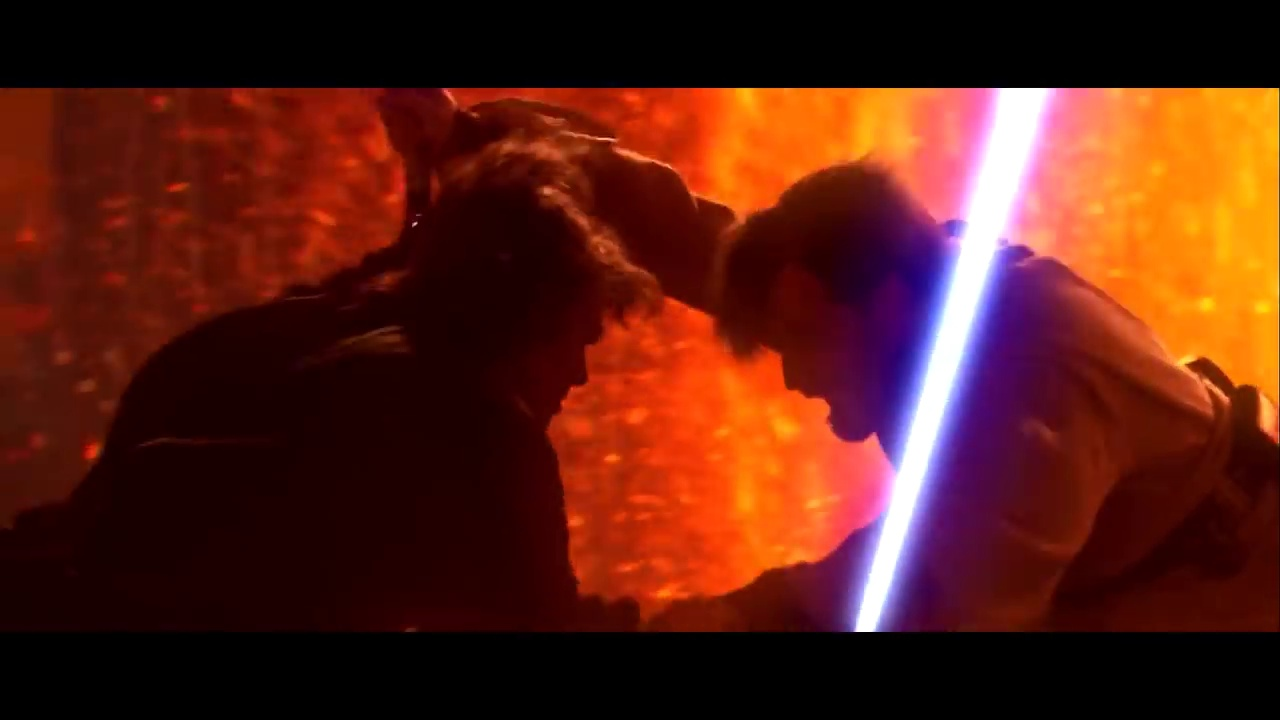lightsaber: (838, 85, 1067, 634)
